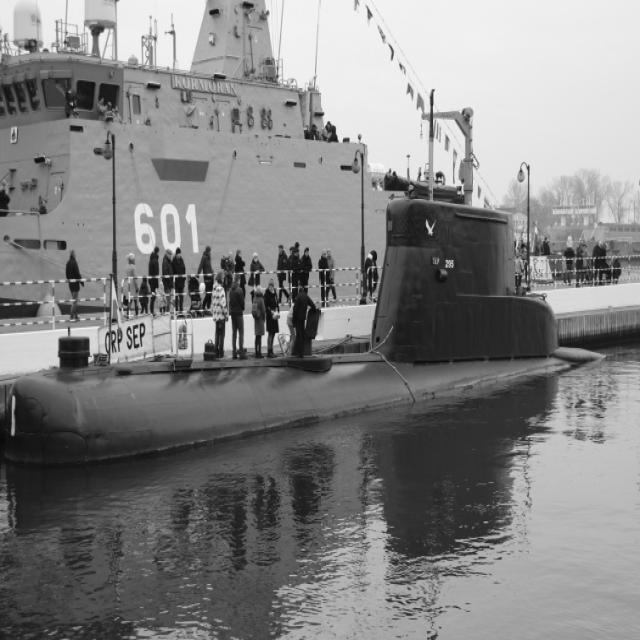submarine: (4, 203, 607, 470)
